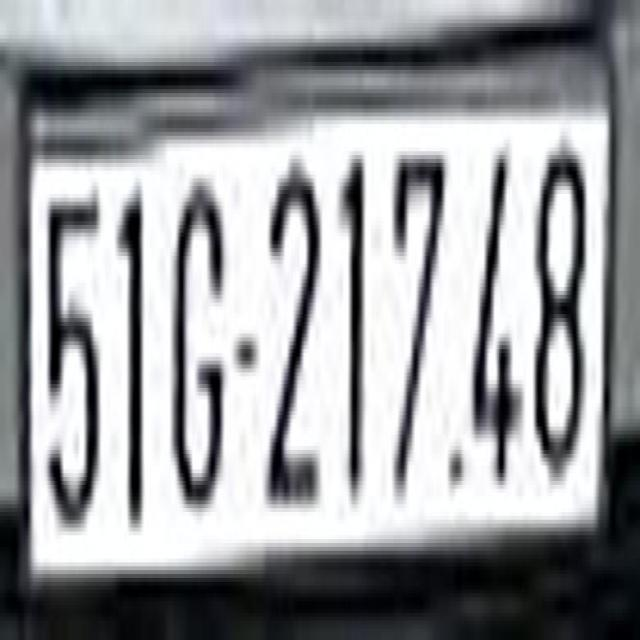1: (335, 144, 367, 508), (117, 170, 147, 528)
2: (264, 163, 331, 524)
4: (472, 140, 523, 473)
5: (43, 183, 99, 532)
7: (385, 132, 445, 527)
8: (532, 151, 584, 485)
G: (171, 178, 222, 496)
